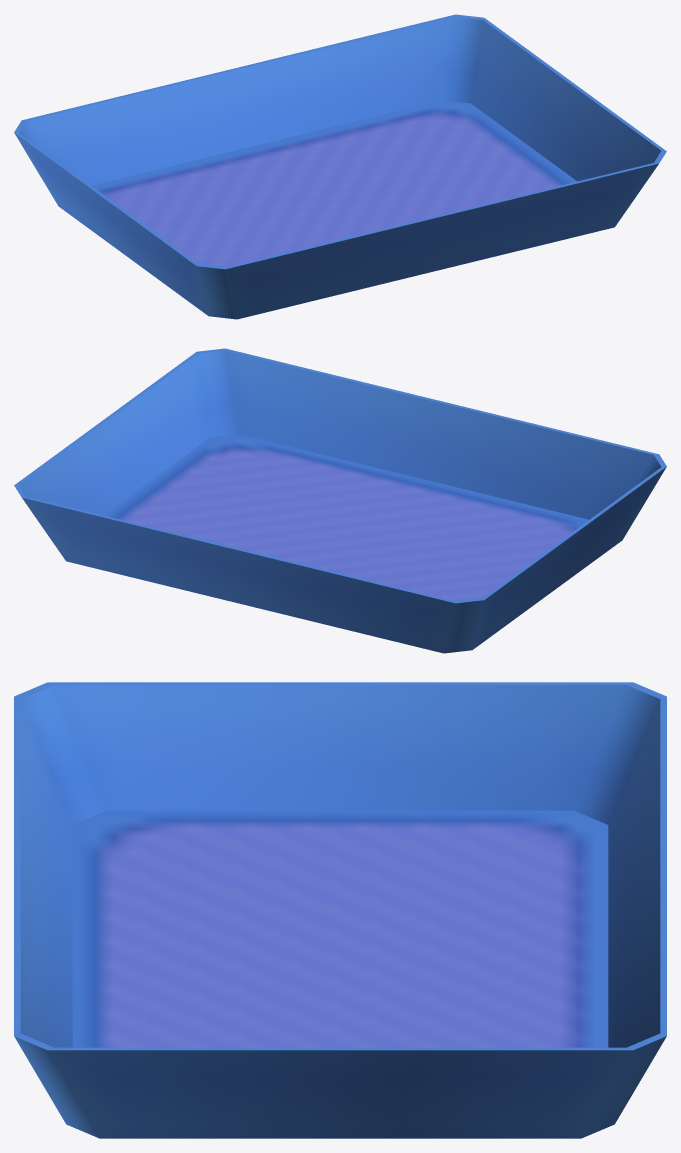
The model's file is jsf_Carton_03.fbx.
3 renders of one model, top to bottom at view 1: azimuth 30°, elevation 25°; view 2: azimuth 150°, elevation 25°; view 3: azimuth 270°, elevation 25°, orthographic. The views are drawn at different scales.
Parts seen in each view (by area): view 1: jsf_Carton_03; view 2: jsf_Carton_03; view 3: jsf_Carton_03.
Boxes of the visible parts, <box> form: jsf_Carton_03: <box>14,14,666,319</box>; jsf_Carton_03: <box>14,348,666,653</box>; jsf_Carton_03: <box>14,682,666,1138</box>.
Size of the model in its own units: 20 by 2.8 by 15.
